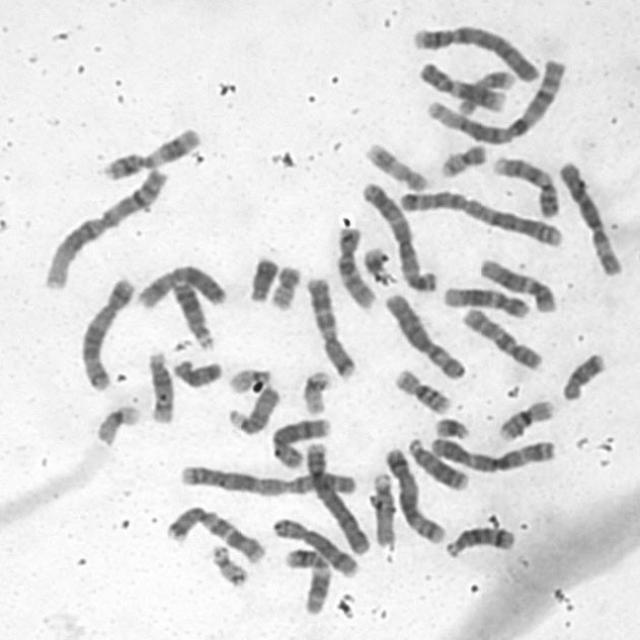A1: (40, 162, 172, 292), (422, 52, 572, 146)
A2: (394, 184, 567, 250), (174, 459, 363, 497)
A3: (356, 176, 440, 294), (425, 432, 557, 474)
B4: (407, 20, 543, 85), (302, 437, 372, 556)
B5: (76, 270, 138, 392), (379, 442, 448, 545)
C10: (458, 301, 547, 373), (331, 221, 379, 310)
C11: (98, 121, 204, 181), (281, 544, 333, 616)
C12: (475, 252, 561, 315), (438, 280, 532, 319)
C6: (553, 154, 626, 278), (380, 288, 469, 382)
C7: (160, 499, 270, 566), (300, 270, 358, 380)
C8: (266, 511, 361, 579), (266, 411, 333, 471)
C9: (414, 56, 510, 115), (488, 151, 561, 219)
D13: (404, 432, 472, 492), (167, 274, 219, 350)
D14: (441, 520, 518, 560), (142, 345, 179, 426)
D15: (222, 381, 282, 438), (367, 466, 399, 548)
E16: (391, 364, 456, 415), (494, 394, 559, 443)
E17: (361, 136, 432, 192), (454, 63, 520, 117)
E18: (558, 347, 611, 402), (167, 353, 226, 389)
F19: (91, 399, 143, 447), (298, 364, 336, 416)
F20: (435, 138, 490, 179), (266, 260, 304, 311)
G21: (358, 241, 395, 285), (429, 411, 473, 441)
G22: (206, 540, 249, 587), (225, 362, 275, 395)
X: (133, 258, 232, 311)
Y: (245, 252, 282, 303)
